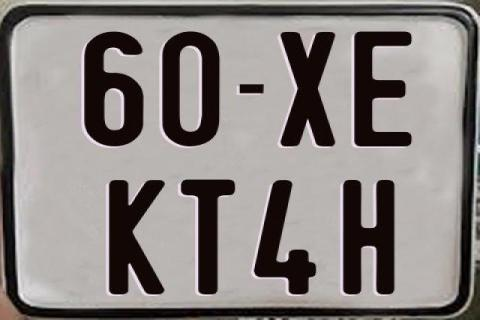0: (252, 178, 315, 298), (160, 30, 221, 146), (82, 31, 142, 148)
E: (353, 29, 412, 145)
H: (343, 180, 398, 297)
K: (108, 178, 165, 294)
T: (180, 178, 240, 294)
X: (279, 30, 339, 148)
